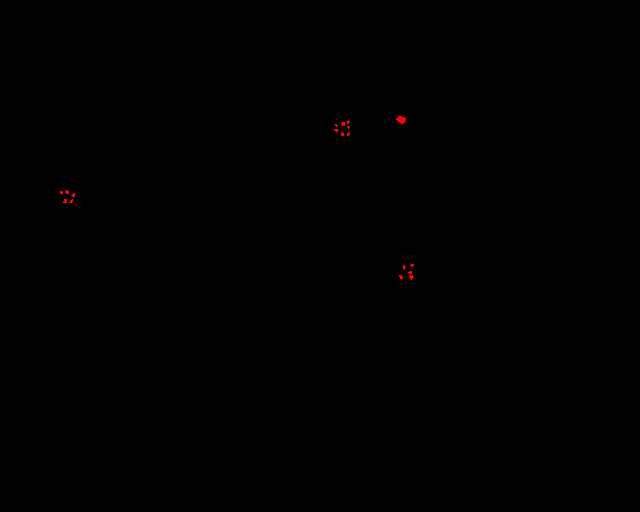Target: (396, 116, 406, 124), (409, 275, 414, 280), (341, 122, 345, 126), (65, 190, 69, 194), (71, 193, 75, 197), (63, 199, 67, 203), (69, 199, 73, 203), (399, 275, 403, 279), (334, 129, 339, 132), (403, 265, 406, 270), (341, 132, 344, 136), (347, 132, 350, 136), (410, 264, 414, 267), (408, 271, 412, 274), (347, 121, 350, 124), (335, 124, 338, 127), (347, 126, 350, 129), (60, 191, 63, 194)
